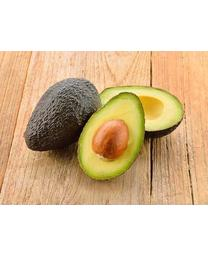avocado: (77, 91, 146, 180), (24, 78, 102, 152), (95, 85, 185, 139)
